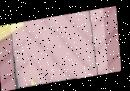scratch: (3, 4, 117, 91)
